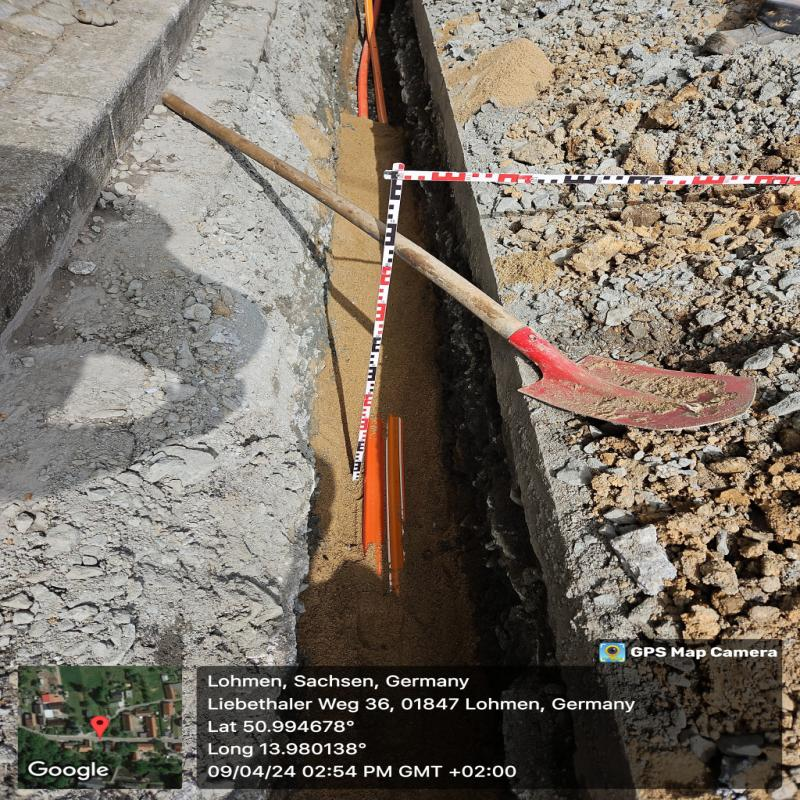Orang-Speednetrohrchen: (363, 421, 383, 573), (387, 417, 404, 571)
